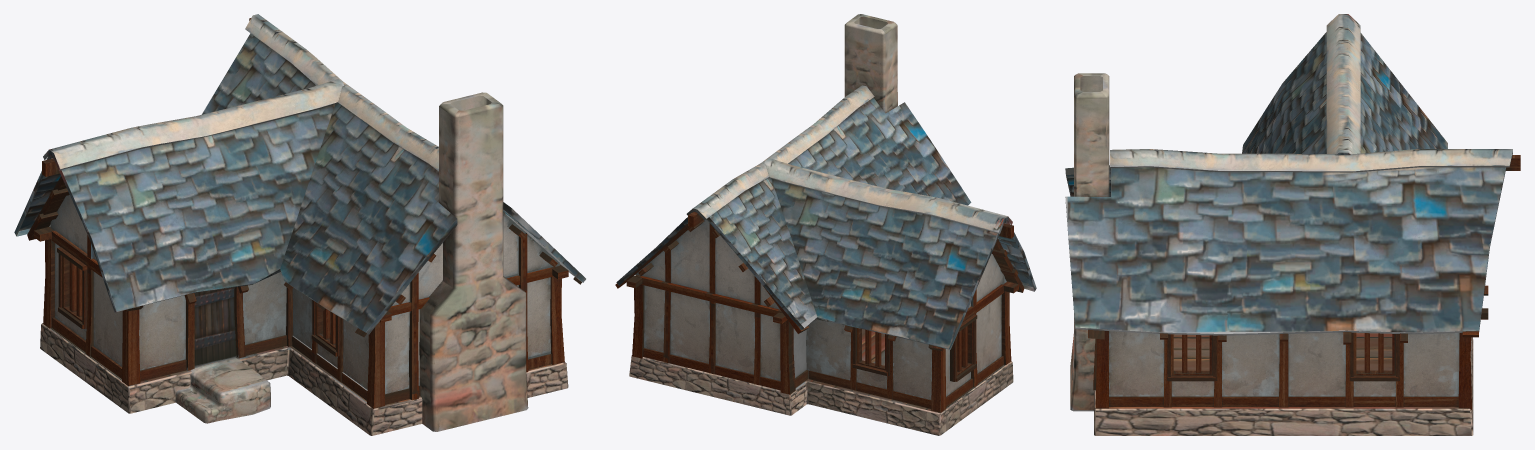
Rendered from ENG_House_Age2.fbx.
3 renders of one model, left to right at view 1: azimuth 30°, elevation 25°; view 2: azimuth 150°, elevation 25°; view 3: azimuth 270°, elevation 25°, orthographic. The views are drawn at different scales.
Visible parts, largest first — view 1: Plane, Mesh_0.004, Plane.003, Plane.004, Plane.001, Cube.003, Mesh_0.009, Plane.002, Mesh_0.025, Cube.004, Mesh_0.003, Mesh_0.027 (+4 smaller); view 2: Plane, Plane.003, Plane.004, Plane.001, Mesh_0.004, Plane.002, Cube.003, Mesh_0.009, Cube.004, Cube.007, Mesh_0.003, Mesh_0.029 (+5 smaller); view 3: Plane, Plane.003, Plane.004, Plane.002, Mesh_0.004, Plane.001, Cube.004, Mesh_0.009, Cube.003, Mesh_0.026, Mesh_0.023, Mesh_0.022 (+2 smaller).
Part boxes in pixels (left/top/right/bottom): Plane: left=14, top=33, right=585, bottom=334; Mesh_0.004: left=419, top=92, right=528, bottom=431; Plane.003: left=50, top=195, right=559, bottom=394; Plane.004: left=40, top=311, right=568, bottom=435; Plane.001: left=43, top=79, right=344, bottom=170; Cube.003: left=43, top=239, right=564, bottom=408; Mesh_0.009: left=85, top=233, right=528, bottom=400; Plane.002: left=245, top=14, right=438, bottom=171; Mesh_0.025: left=175, top=357, right=270, bottom=423; Cube.004: left=52, top=317, right=551, bottom=404; Mesh_0.003: left=27, top=176, right=504, bottom=311; Mesh_0.027: left=62, top=256, right=82, bottom=321; Plane: left=616, top=98, right=1036, bottom=349; Plane.003: left=635, top=219, right=1004, bottom=399; Plane.004: left=629, top=329, right=1013, bottom=435; Plane.001: left=764, top=158, right=1012, bottom=233; Mesh_0.004: left=844, top=14, right=897, bottom=113; Plane.002: left=686, top=85, right=874, bottom=220; Cube.003: left=632, top=284, right=1011, bottom=412; Mesh_0.009: left=663, top=223, right=977, bottom=399; Cube.004: left=643, top=348, right=1003, bottom=408; Cube.007: left=635, top=275, right=782, bottom=316; Mesh_0.003: left=615, top=223, right=1024, bottom=351; Mesh_0.029: left=857, top=328, right=886, bottom=370; Plane: left=1065, top=32, right=1506, bottom=335; Plane.003: left=1109, top=331, right=1459, bottom=396; Plane.004: left=1094, top=332, right=1473, bottom=435; Plane.002: left=1110, top=149, right=1512, bottom=172; Mesh_0.004: left=1070, top=73, right=1109, bottom=411; Plane.001: left=1326, top=14, right=1360, bottom=154; Cube.004: left=1109, top=396, right=1458, bottom=406; Mesh_0.009: left=1093, top=334, right=1403, bottom=407; Cube.003: left=1095, top=331, right=1471, bottom=409; Mesh_0.026: left=1353, top=332, right=1395, bottom=375; Mesh_0.023: left=1171, top=334, right=1213, bottom=375; Mesh_0.022: left=1167, top=334, right=1217, bottom=381.
Bounding box in the file's own units: 593 × 423 × 573.
